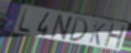4: (36, 11, 51, 39)
D: (67, 16, 88, 43)
H: (103, 23, 127, 50)
K: (88, 21, 108, 47)
L: (16, 8, 32, 35)
N: (49, 14, 75, 42)
